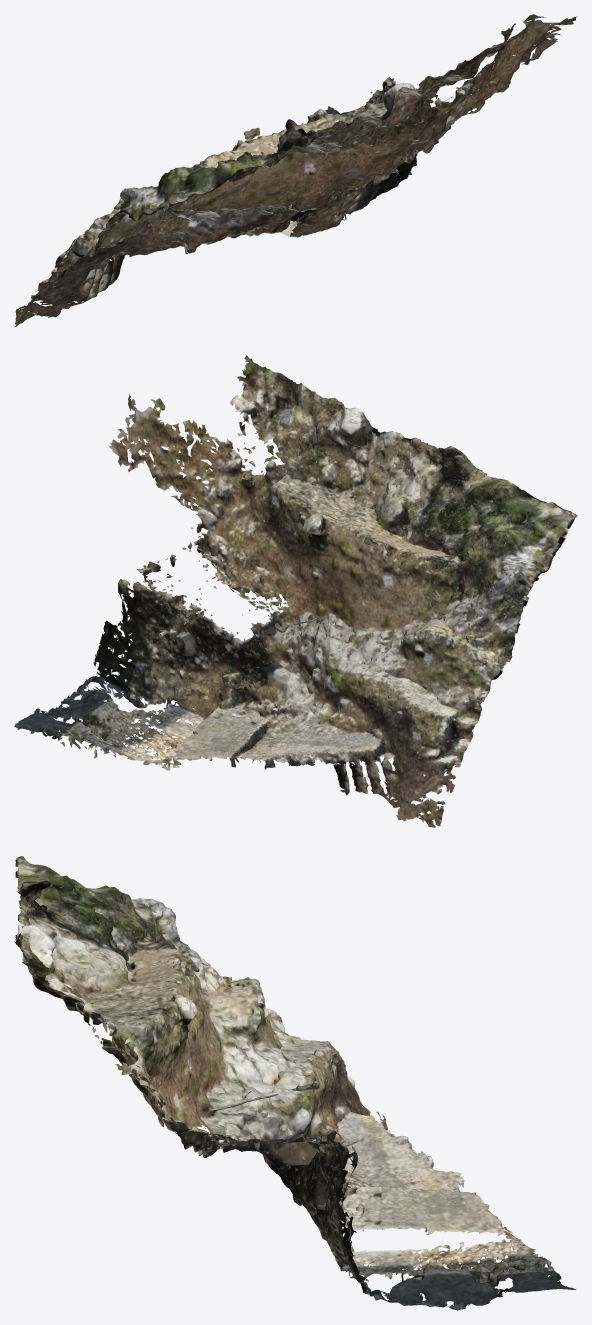
3 views of the same model, one above another, from view 1: azimuth 30°, elevation 25°; view 2: azimuth 150°, elevation 25°; view 3: azimuth 270°, elevation 25° (orthographic). The views are drawn at different scales.
Bounding box in the file's own units: 13.93 × 9.51 × 12.14.
Materials: 1 (1 with a texture image).
